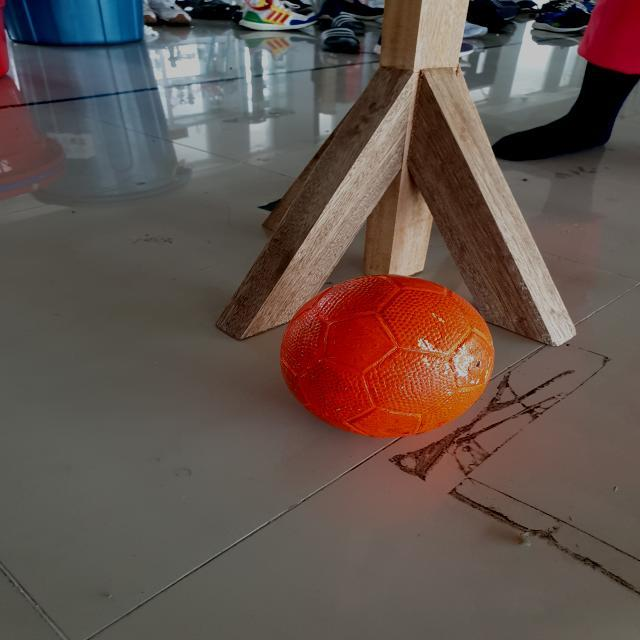bola: (276, 268, 498, 444)
